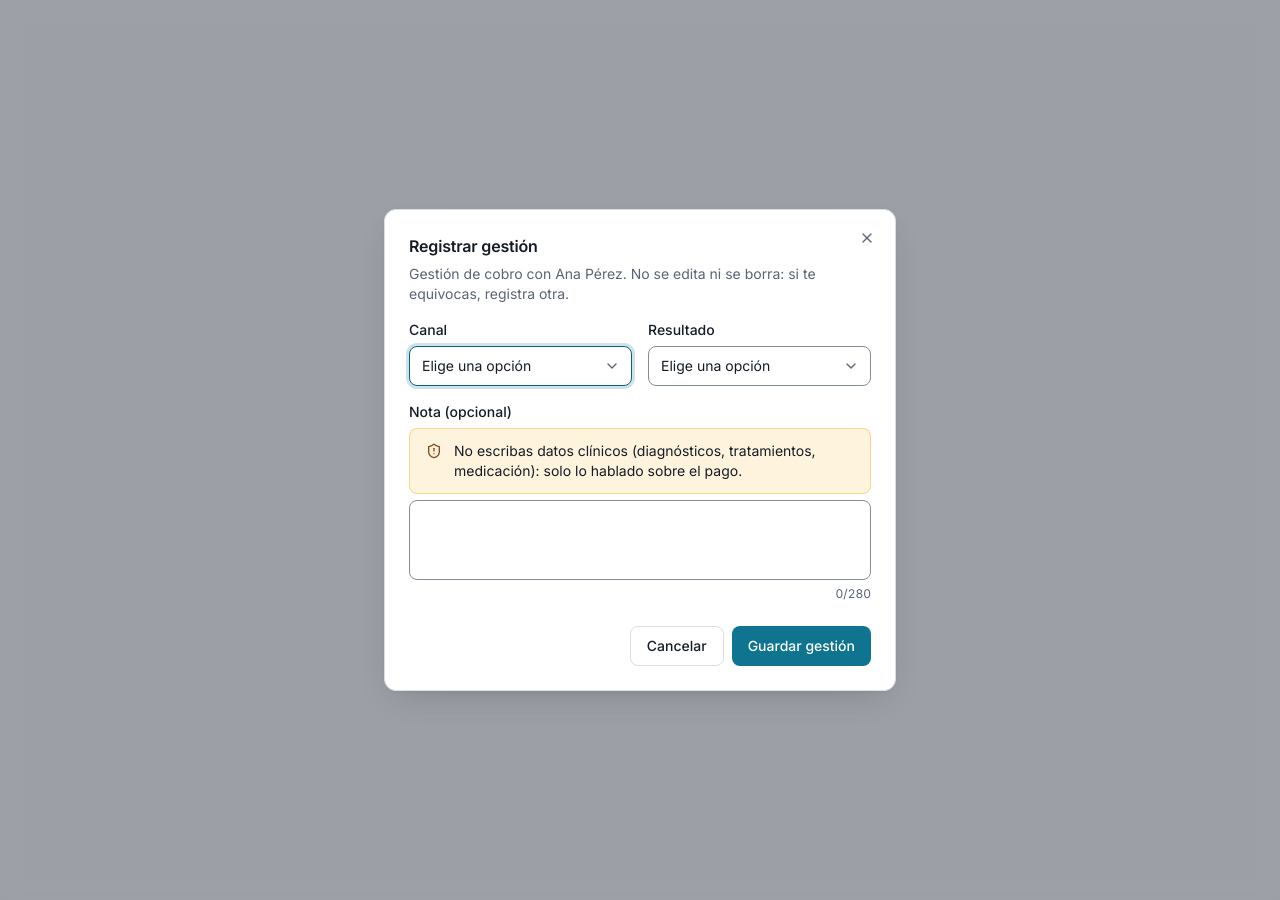
Test: CollectionNoteDialog (DX-150) › valida en español: canal y resultado obligatorios
Step 1. Click the button "Guardar gestión" → (801, 646), box [732,626,871,666]
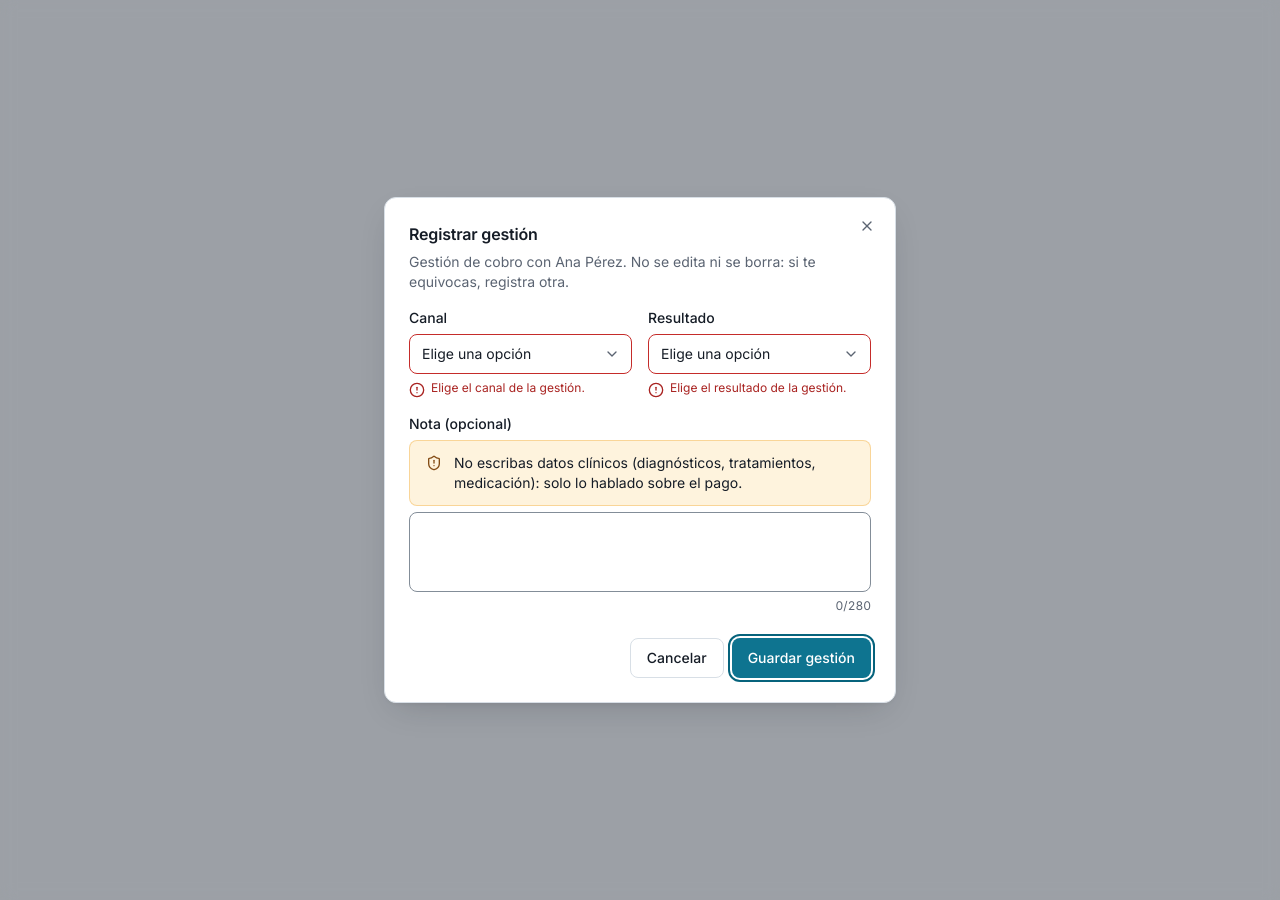
Expected: the text "Elige el canal de la gestión." is shown, [431,380,585,396]
Expected: the text "Elige el resultado de la gestión." is shown, [670,380,846,396]
